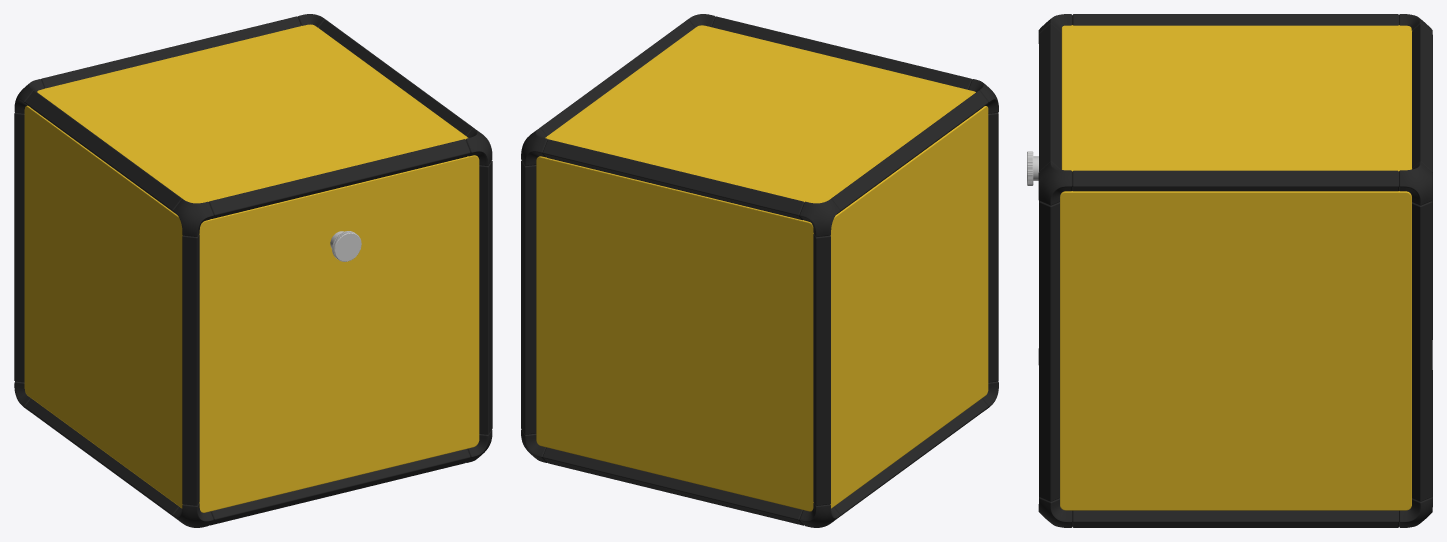
3 views of the same model, side by side, from view 1: azimuth 30°, elevation 25°; view 2: azimuth 150°, elevation 25°; view 3: azimuth 270°, elevation 25° (orthographic). The views are drawn at different scales.
Visible parts, largest first — view 1: 374x374x374; view 2: 374x374x374; view 3: 374x374x374.
Part boxes in pixels (x1,y1,x2,y2): 374x374x374: [14, 14, 492, 527]; 374x374x374: [521, 14, 998, 527]; 374x374x374: [1027, 14, 1432, 527].
Bounding box in the file's own units: 0.4517 × 0.4516 × 0.4646.
